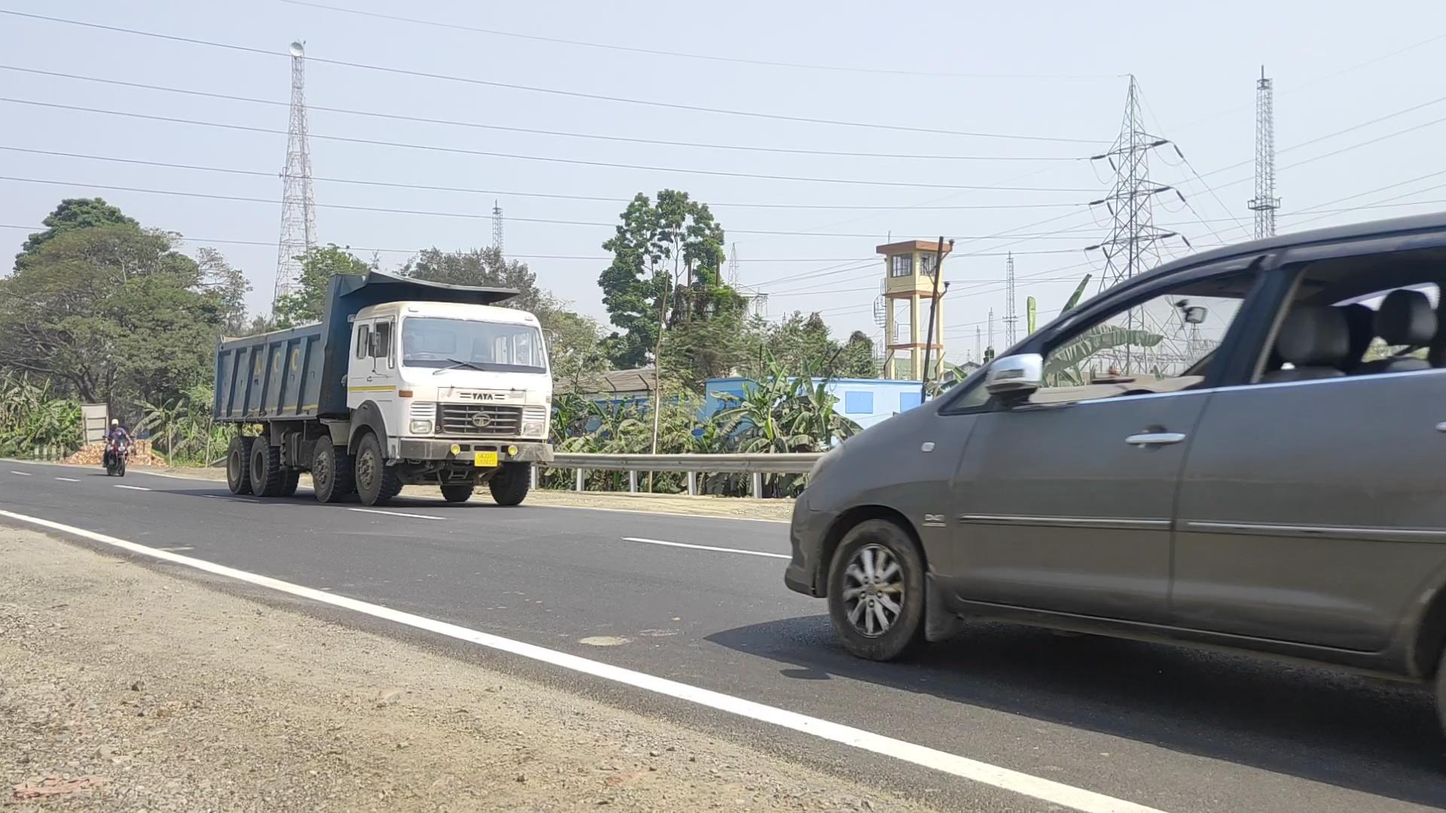bike: (102, 419, 135, 477)
car: (785, 206, 1446, 764)
truck: (214, 266, 555, 507)
